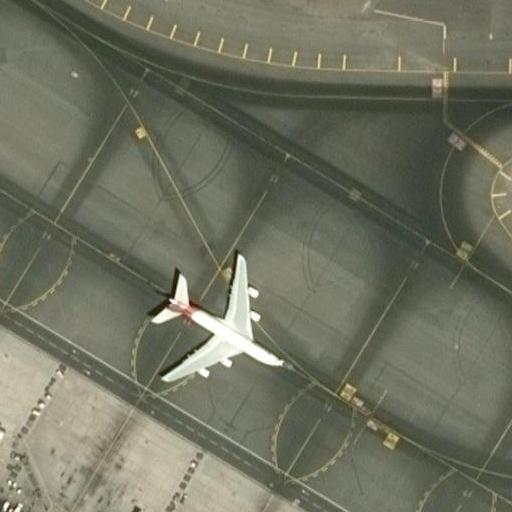Aircraft: (137, 252, 285, 391)
